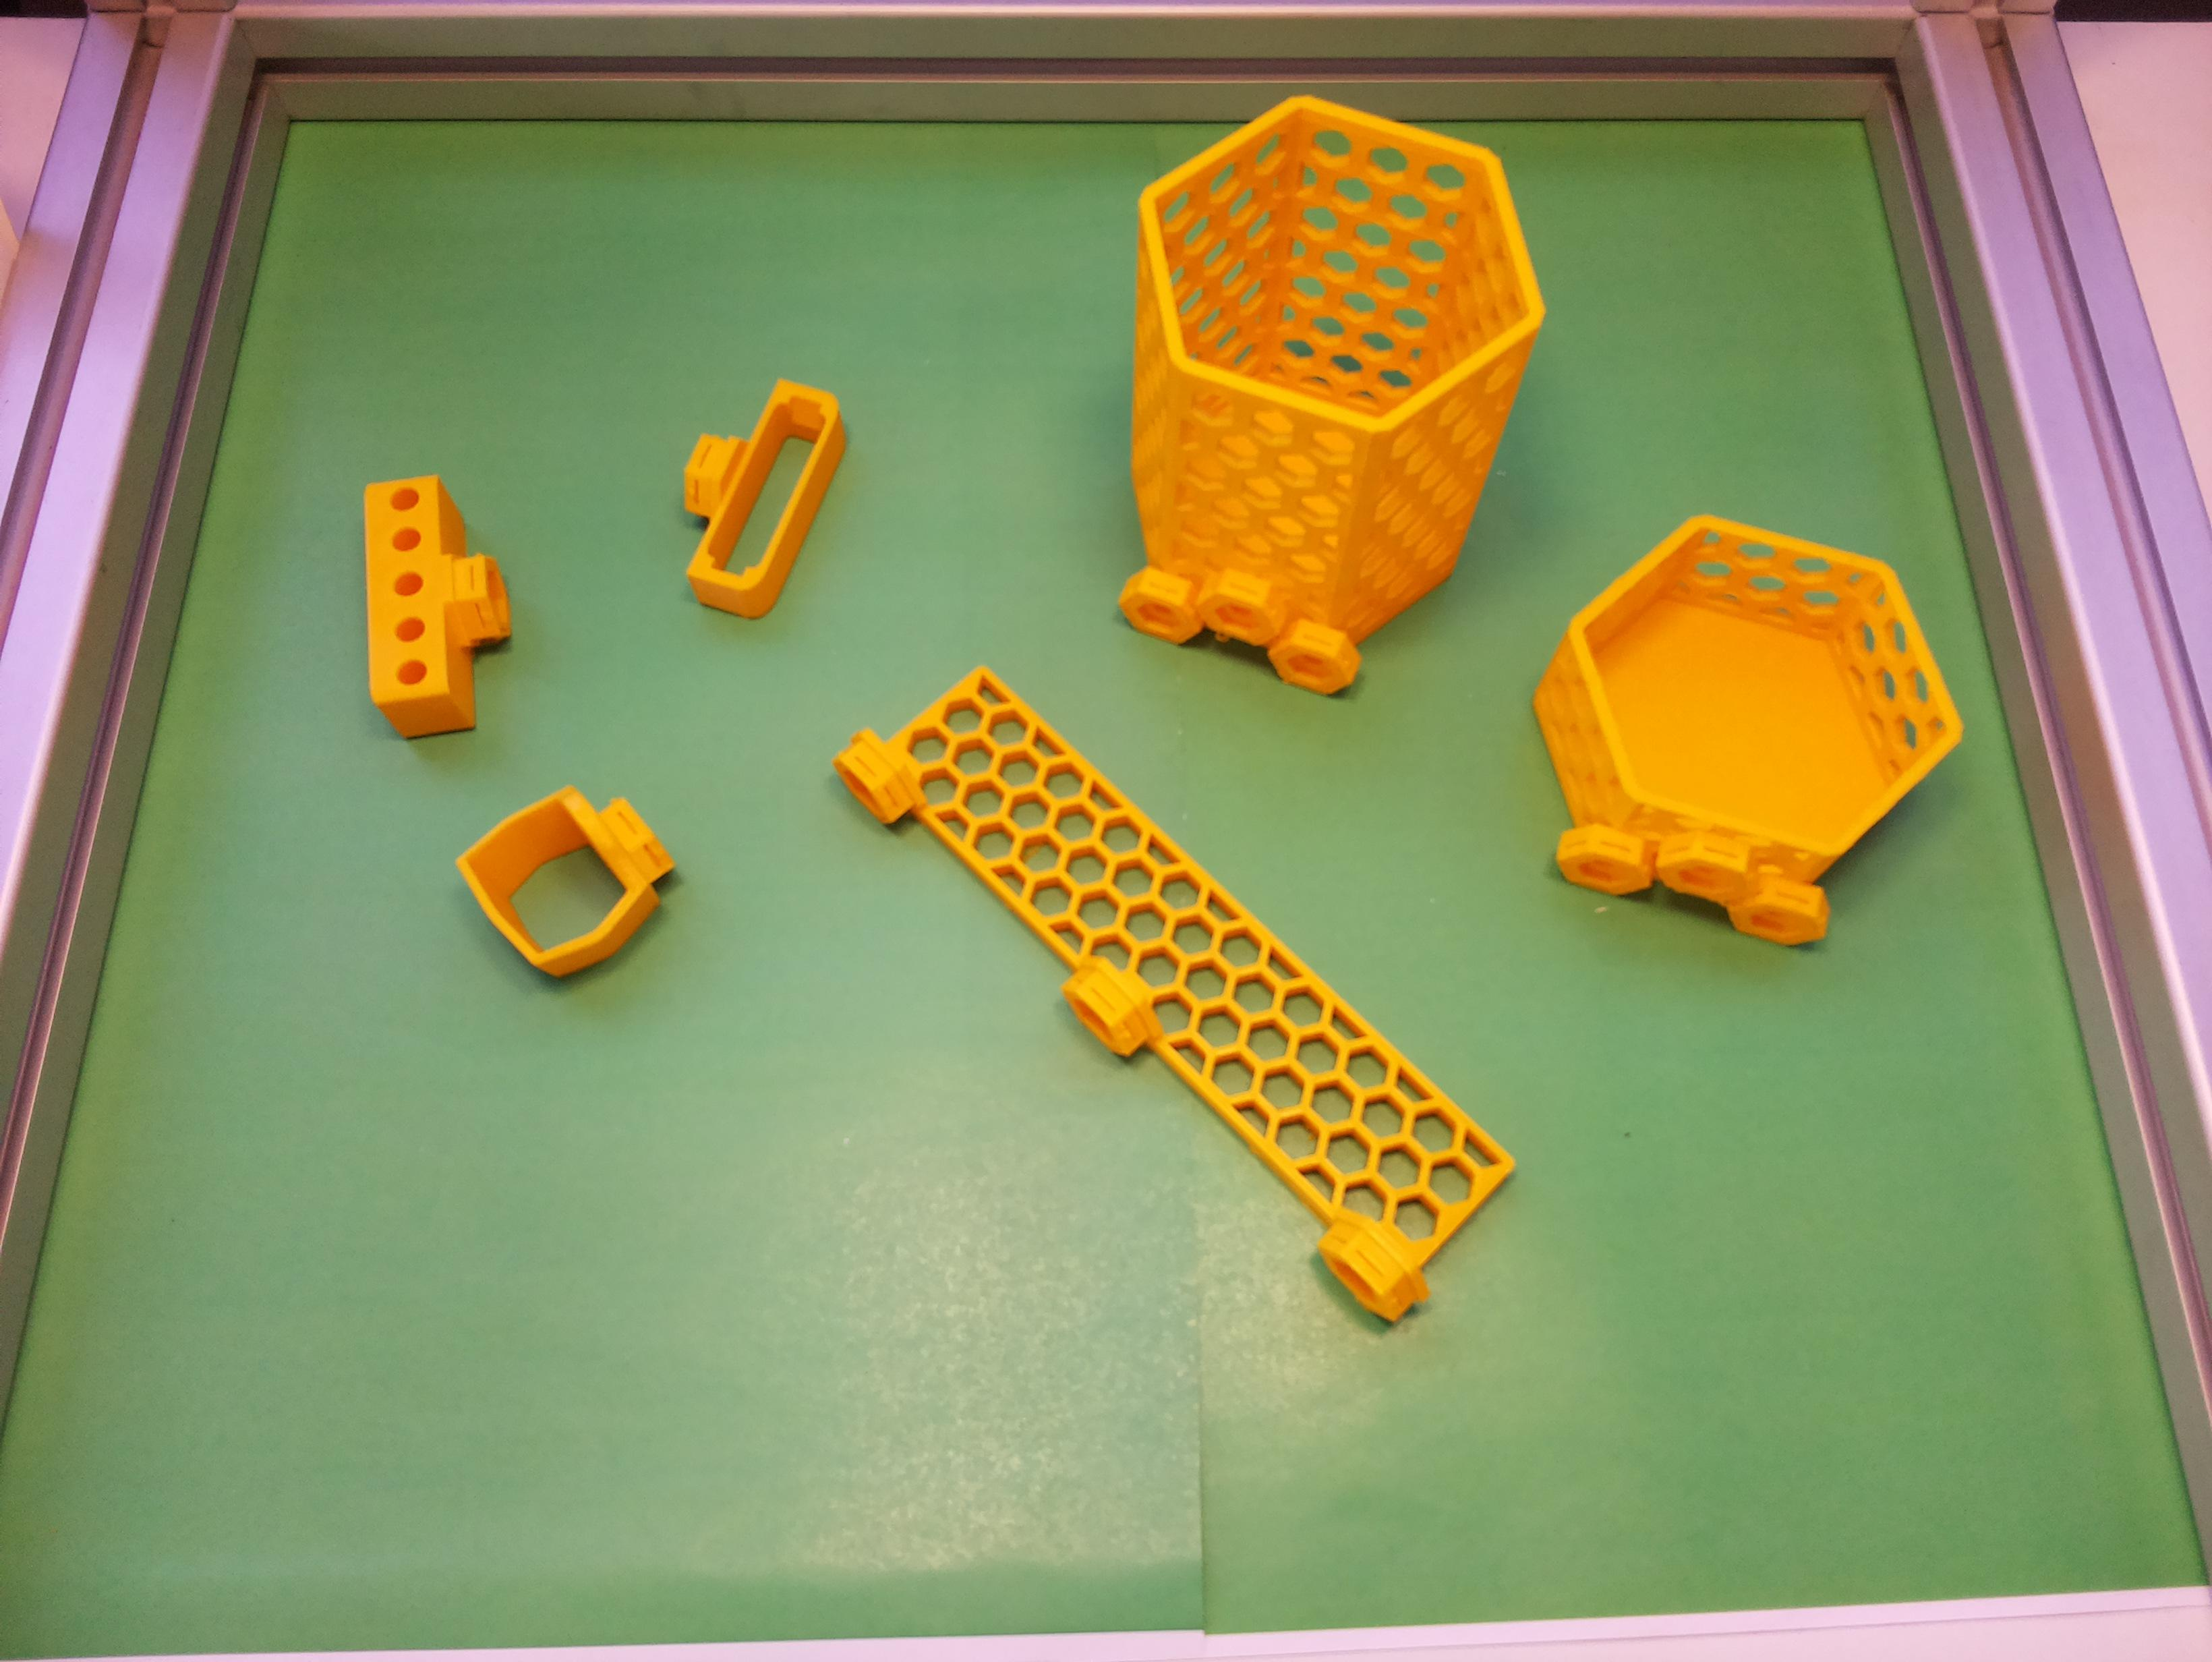bit_holder: (361, 473, 515, 740)
bottle_holder: (1487, 478, 2001, 976)
cup_holder: (1020, 58, 1585, 723)
cutter_holder: (637, 351, 864, 630)
scissor_holder: (447, 752, 695, 1000)
tool_holder: (824, 620, 1538, 1332)
